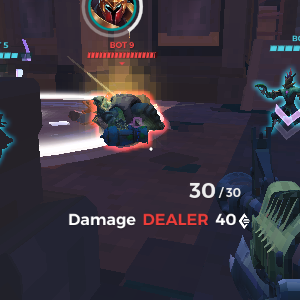model: (90, 86, 165, 154)
